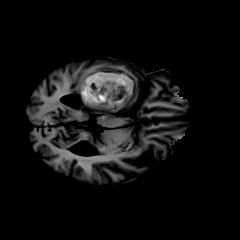glioma: (75, 70, 143, 113)
